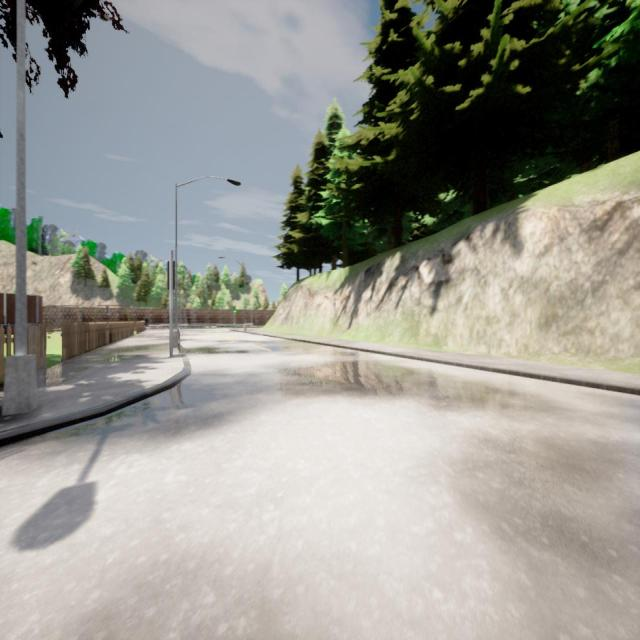traffic_light: (168, 261, 175, 290), (232, 306, 235, 313)
